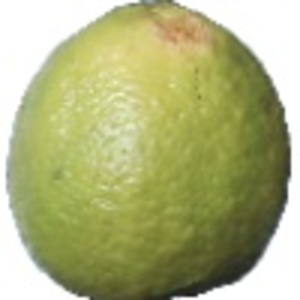limão: (7, 1, 291, 300)
